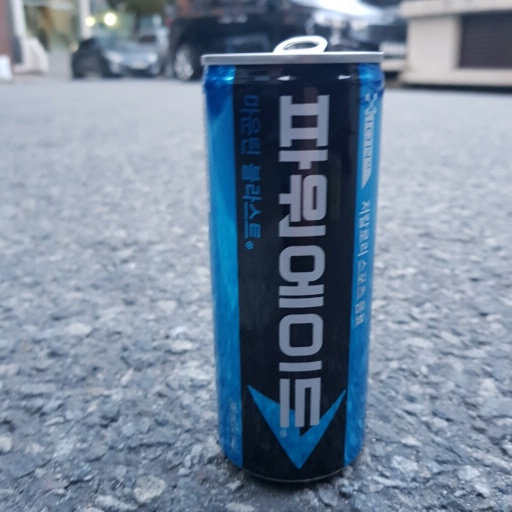Metal_0: (199, 35, 386, 486)
